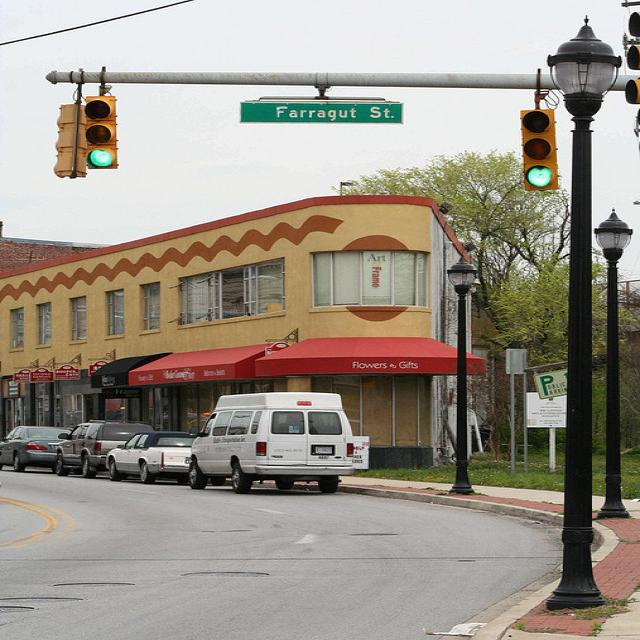Vehicle: (187, 394, 367, 494), (51, 419, 156, 478), (55, 421, 155, 478), (106, 432, 200, 484), (1, 426, 72, 472)
